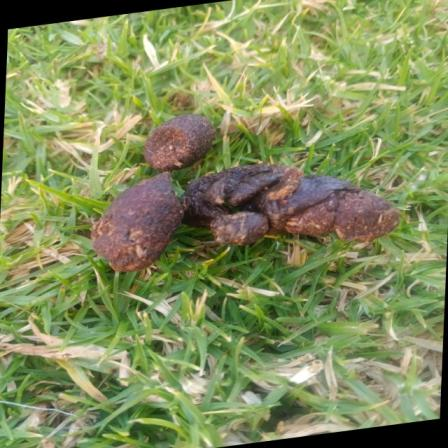dog-poop: (90, 105, 392, 255)
